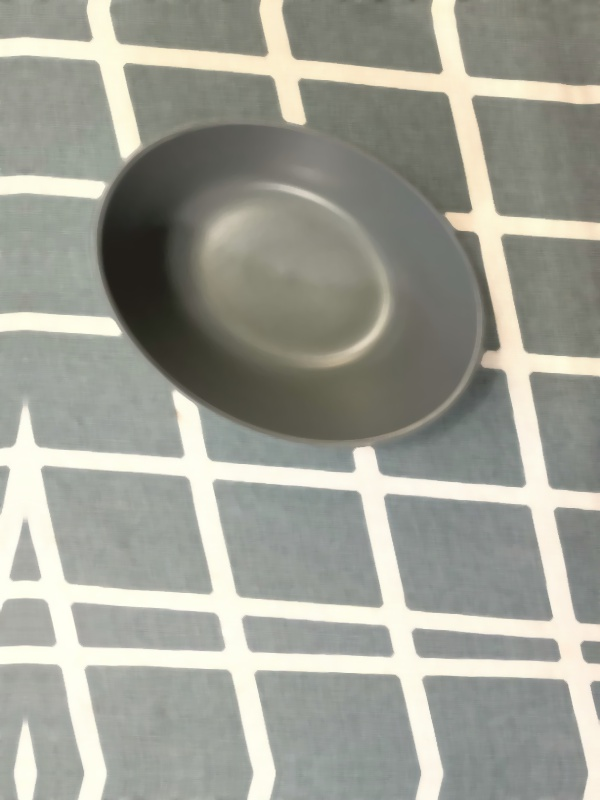bowl_big: (52, 98, 538, 479)
